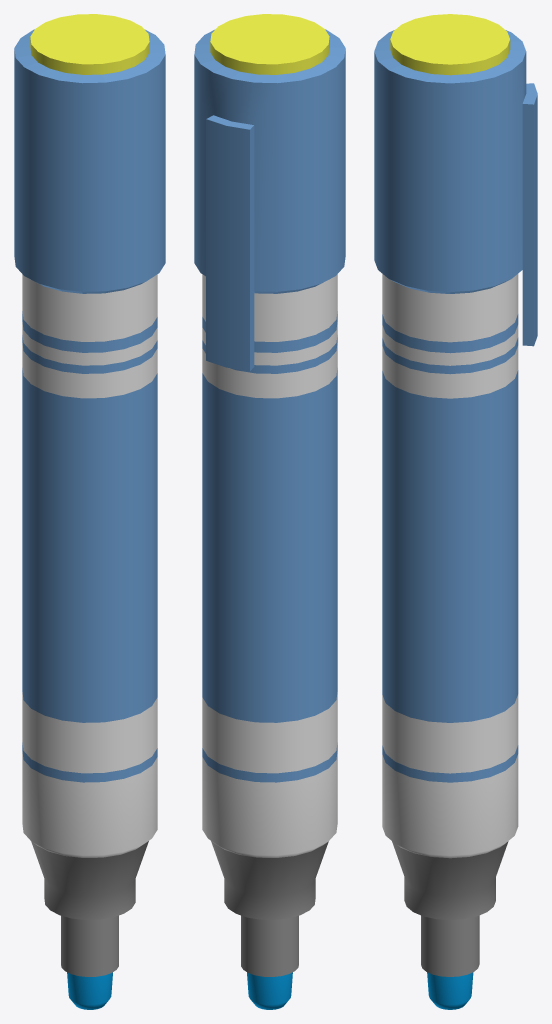
File: Marker.fbx
The picture shows the model from 3 angles, left to right: view 1: azimuth 30°, elevation 25°; view 2: azimuth 150°, elevation 25°; view 3: azimuth 270°, elevation 25°; orthographic projection.
Visible parts, largest first — view 1: pCylinder1; view 2: pCylinder1; view 3: pCylinder1.
Boxes of the visible parts, bbox=[...] form: pCylinder1: bbox=[14, 14, 165, 1009]; pCylinder1: bbox=[194, 14, 345, 1009]; pCylinder1: bbox=[374, 14, 537, 1009].
Bounding box in the file's own units: 176 × 1241 × 190.
